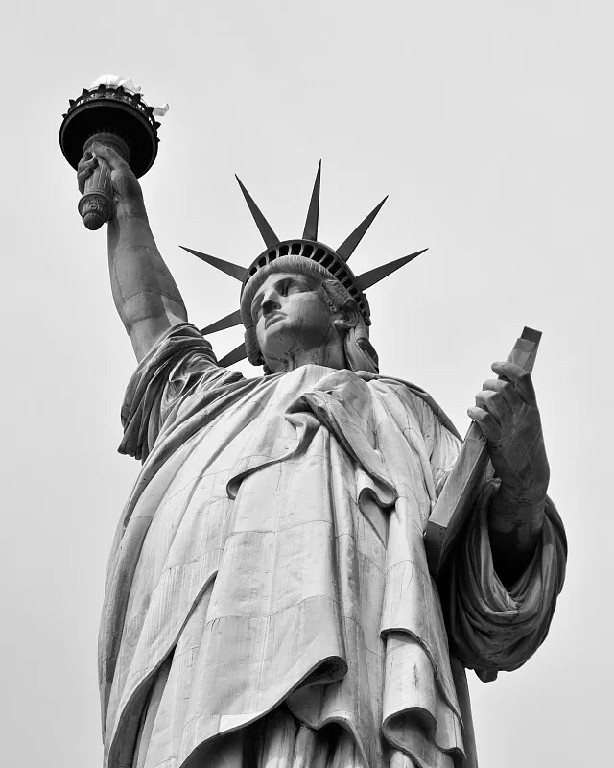SL: (58, 72, 569, 768)
